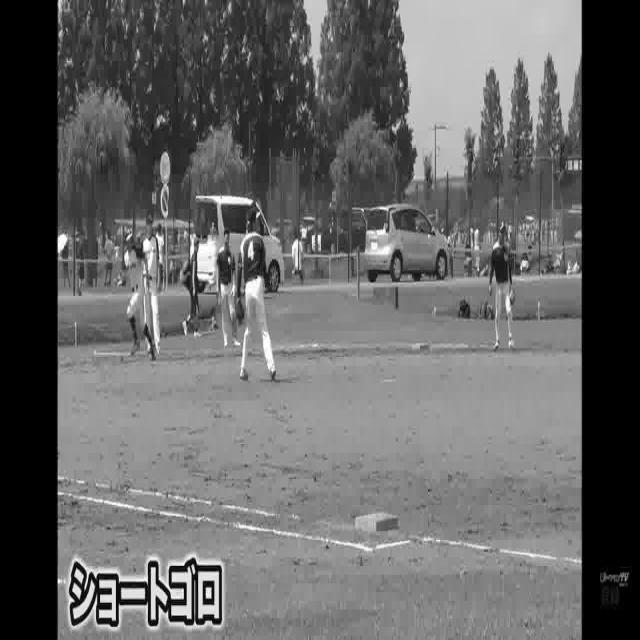base: (352, 507, 401, 536)
baseball_glove: (233, 290, 246, 325)
shoe: (237, 364, 250, 388), (129, 338, 142, 361), (268, 361, 279, 383), (148, 347, 157, 363)
